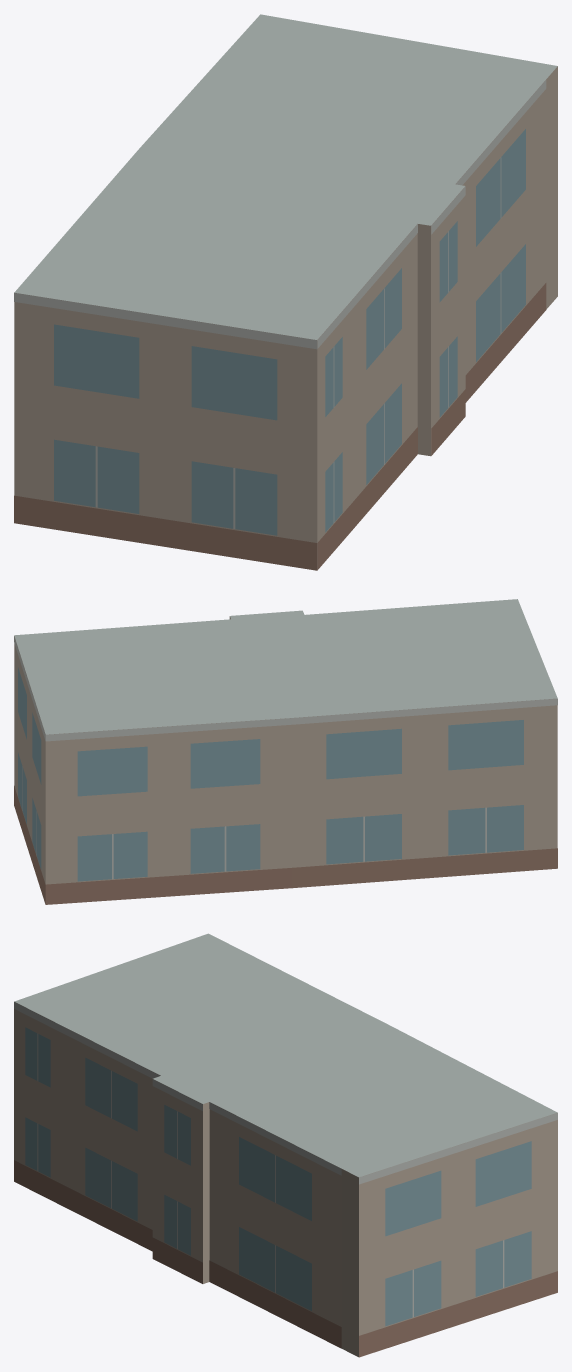
The model's file is survey-upis-32772491.glb.
3 renders of one model, top to bottom at view 1: azimuth 30°, elevation 25°; view 2: azimuth 150°, elevation 25°; view 3: azimuth 270°, elevation 25°, orthographic. The views are drawn at different scales.
Parts seen in each view (by area): view 1: survey-upis-32772491.tmp; view 2: survey-upis-32772491.tmp; view 3: survey-upis-32772491.tmp.
Part boxes in pixels (box(x1,y1,x2,y2)): survey-upis-32772491.tmp: box(14, 14, 557, 570); survey-upis-32772491.tmp: box(14, 599, 557, 904); survey-upis-32772491.tmp: box(14, 933, 557, 1357).
Bounding box in the file's own units: 17.74 × 6.1 × 16.71.
